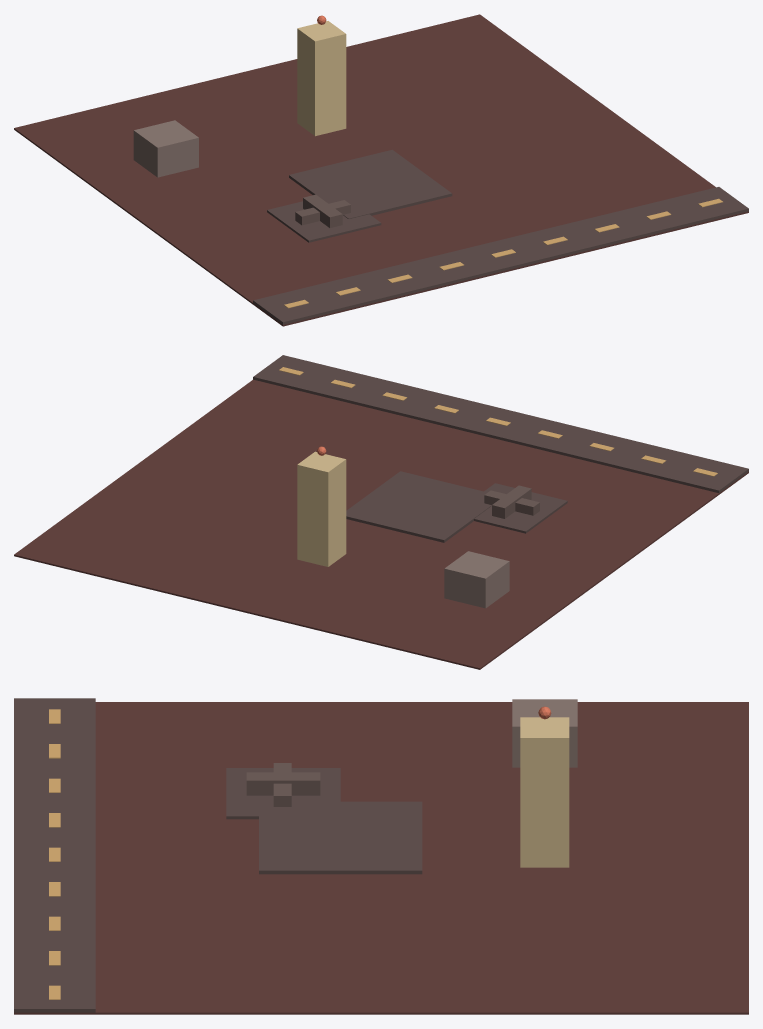
The model's file is stage_04.glb.
The picture shows the model from 3 angles, top to bottom: view 1: azimuth 30°, elevation 25°; view 2: azimuth 150°, elevation 25°; view 3: azimuth 270°, elevation 25°; orthographic projection. The views are drawn at different scales.
Visible parts, largest first — view 1: geometry_0; view 2: geometry_0; view 3: geometry_0.
Part boxes in pixels (x1=…): geometry_0: x1=14, y1=14, x2=748, y2=326; geometry_0: x1=14, y1=355, x2=748, y2=669; geometry_0: x1=14, y1=698, x2=748, y2=1014.
Bounding box in the file's own units: 9 × 2.06 × 9.
